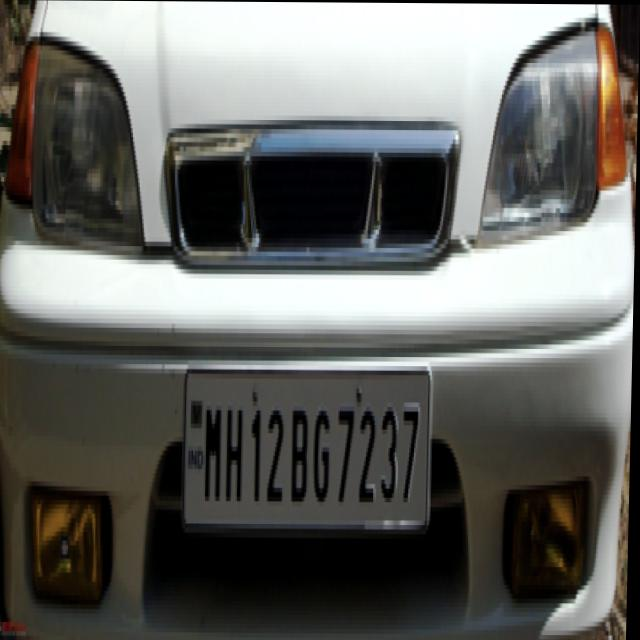licence: (184, 369, 435, 529)
